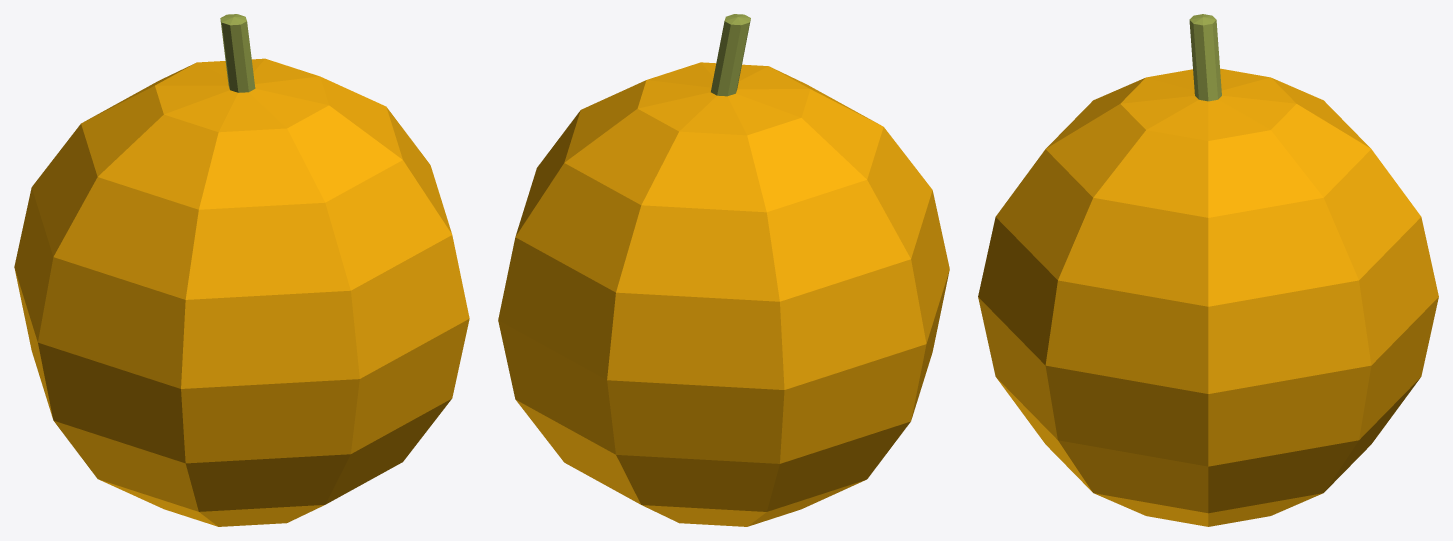
The model's file is Prop_Orange.fbx.
The picture shows the model from 3 angles, left to right: view 1: azimuth 30°, elevation 25°; view 2: azimuth 150°, elevation 25°; view 3: azimuth 270°, elevation 25°; orthographic projection. The views are drawn at different scales.
Parts seen in each view (by area): view 1: Sphere.001; view 2: Sphere.001; view 3: Sphere.001.
Boxes of the visible parts, x1=… form: Sphere.001: x1=14, y1=14, x2=469, y2=526; Sphere.001: x1=498, y1=14, x2=949, y2=526; Sphere.001: x1=978, y1=14, x2=1438, y2=526.
Bounding box in the file's own units: 13.4 × 15.5 × 13.4.
